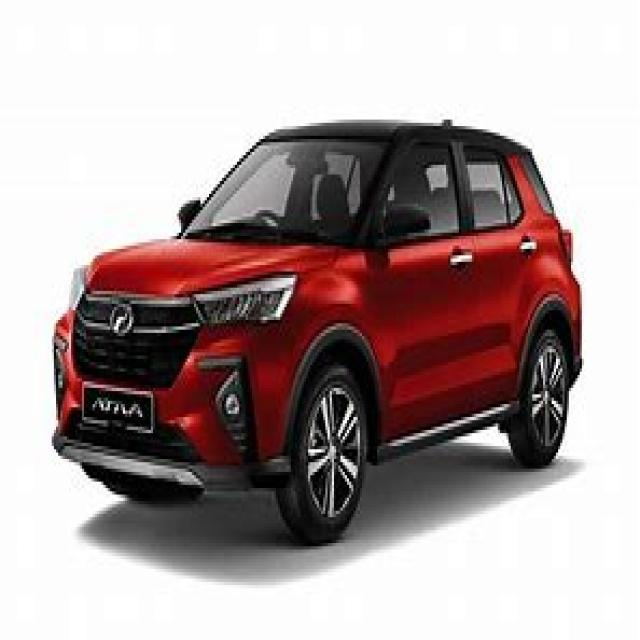PeroduaAtiva: (49, 113, 584, 543)
